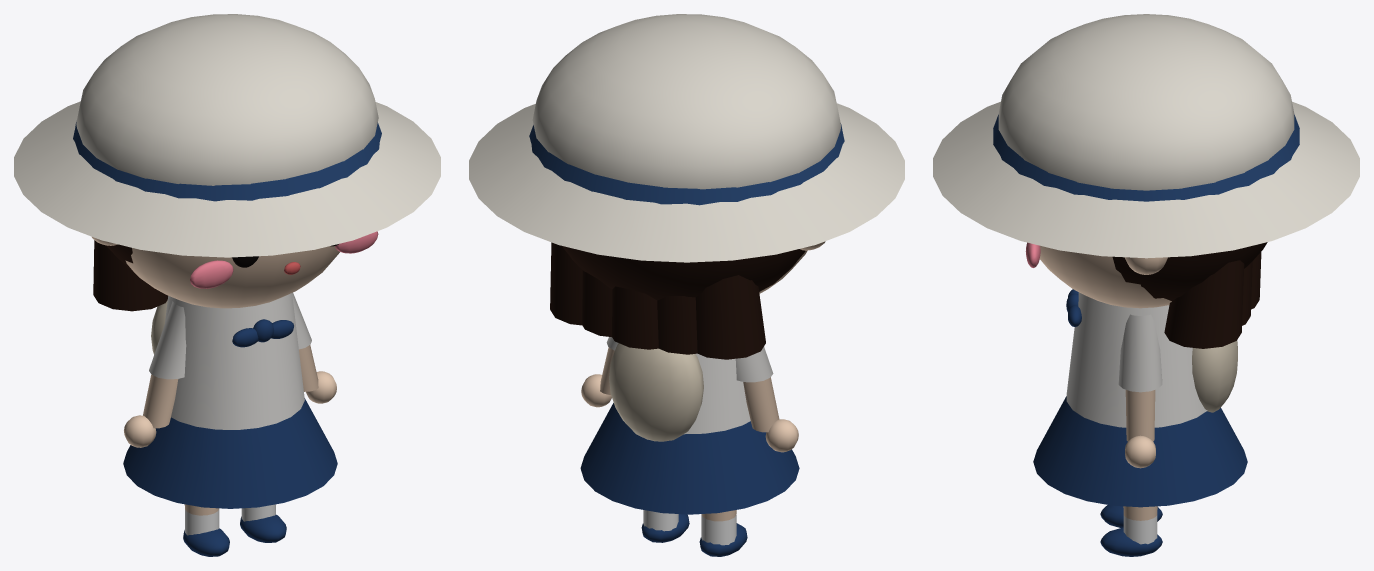
Rendered from girl.glb.
3 views of the same model, side by side, from view 1: azimuth 30°, elevation 25°; view 2: azimuth 150°, elevation 25°; view 3: azimuth 270°, elevation 25° (orthographic). The views are drawn at different scales.
Parts seen in each view (by area): view 1: ClayAsset; view 2: ClayAsset; view 3: ClayAsset.
Part boxes in pixels (bbox=[...]): ClayAsset: bbox=[14, 14, 440, 556]; ClayAsset: bbox=[469, 14, 904, 556]; ClayAsset: bbox=[933, 14, 1359, 556].
Bounding box in the file's own units: 1.44 × 1.87 × 1.43.
